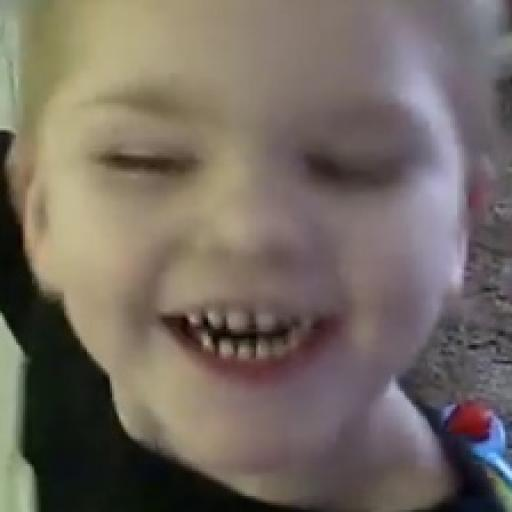Autism: (48, 18, 481, 512)
